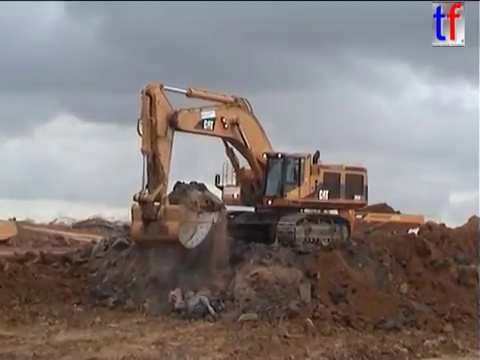excavator: (126, 80, 372, 255)
truck: (289, 198, 426, 253), (1, 218, 20, 246)
